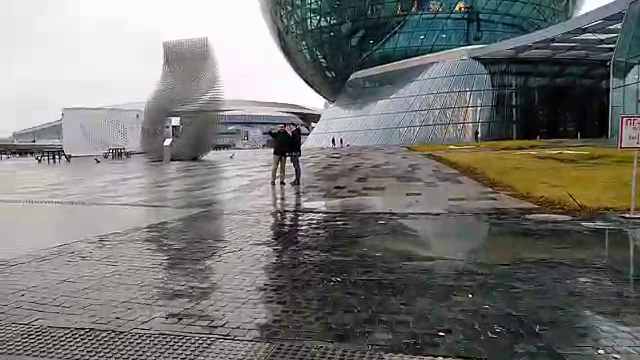kassa: (226, 122, 267, 156)
